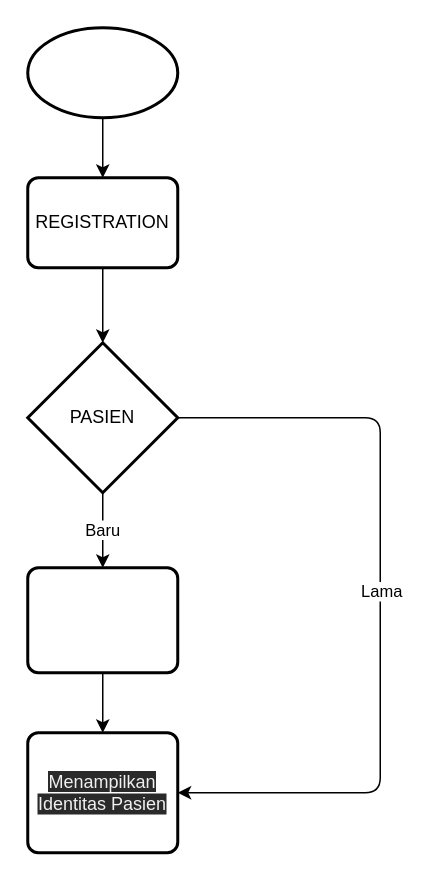
Some shapes in this 428 by 882 pixel diagram are drawn without their labels. Here are the shapes that lost their labels. From the top down, the box of each, then its label:
(26, 26, 178, 118): START
(26, 566, 178, 674): Menambahkan Data Identitas Pasien
